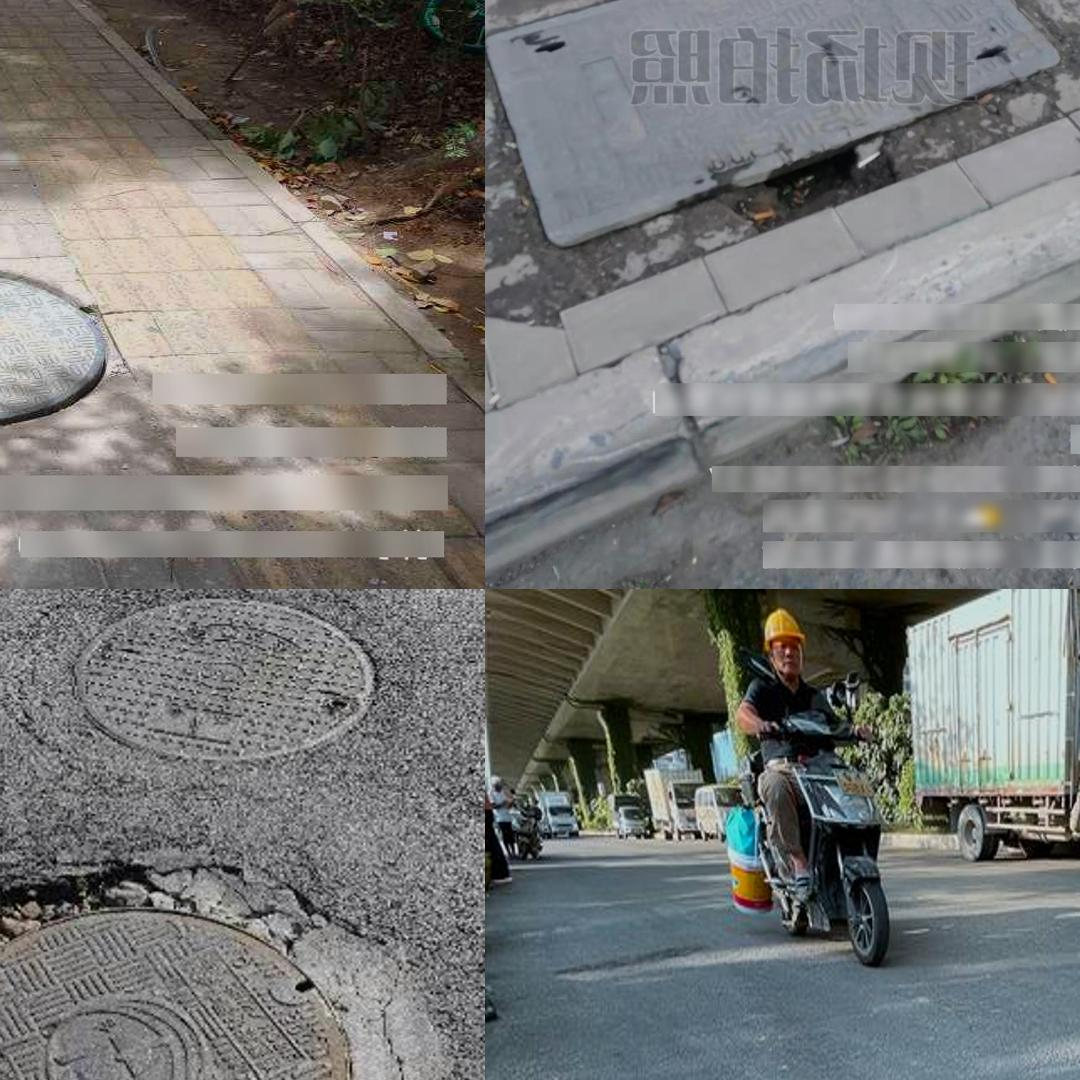circle: (485, 0, 1080, 283), (0, 864, 437, 1080), (0, 264, 116, 433), (721, 1069, 1080, 1080)
good: (67, 596, 383, 763)
